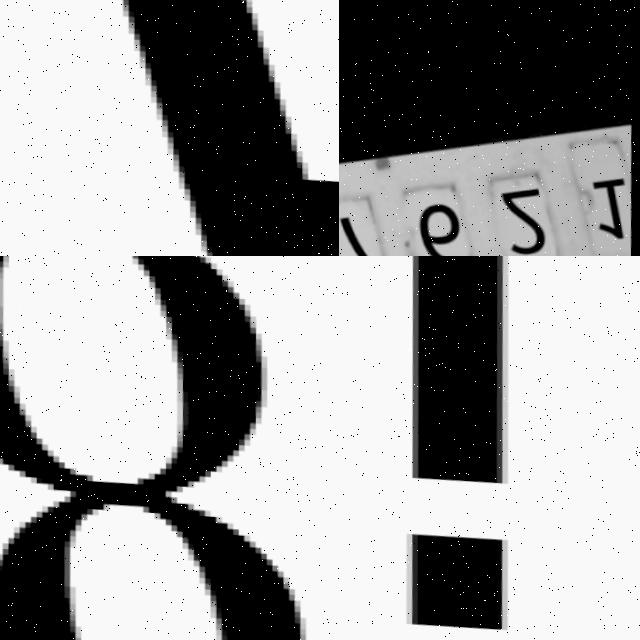1: (573, 149, 635, 247)
2: (486, 161, 558, 256)
6: (401, 173, 475, 256)
7: (339, 188, 391, 256)
8: (0, 256, 325, 640)
I: (382, 256, 530, 634)
R: (4, 0, 339, 256)
